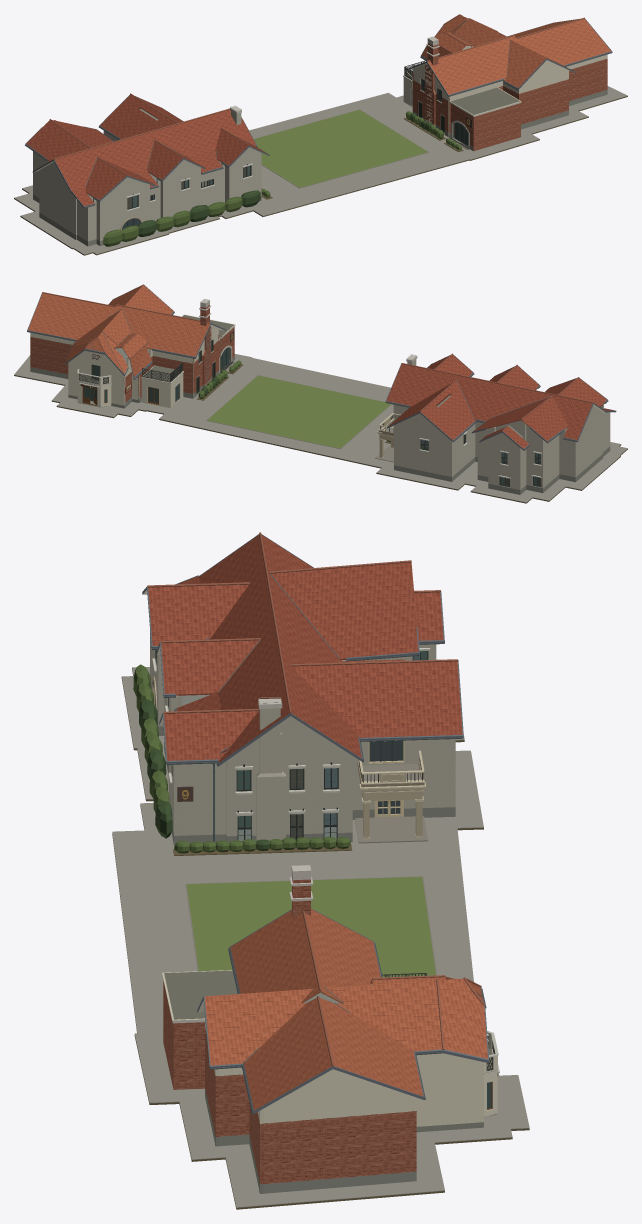
File: changning-hongji-yuyuan-garden-houses-8-and-9-lod.glb
The picture shows the model from 3 angles, top to bottom: view 1: azimuth 30°, elevation 25°; view 2: azimuth 150°, elevation 25°; view 3: azimuth 270°, elevation 25°; orthographic projection. The views are drawn at different scales.
Visible parts, largest first — view 1: 弘基创意国际园——8、9号楼; view 2: 弘基创意国际园——8、9号楼; view 3: 弘基创意国际园——8、9号楼.
Part boxes in pixels (x1,y1,x2,y2): 弘基创意国际园——8、9号楼: (14, 14, 627, 255); 弘基创意国际园——8、9号楼: (14, 284, 627, 503); 弘基创意国际园——8、9号楼: (112, 532, 529, 1209).
Bounding box in the file's own units: 74.41 × 10.96 × 23.97.
51 materials, 4 textured.
